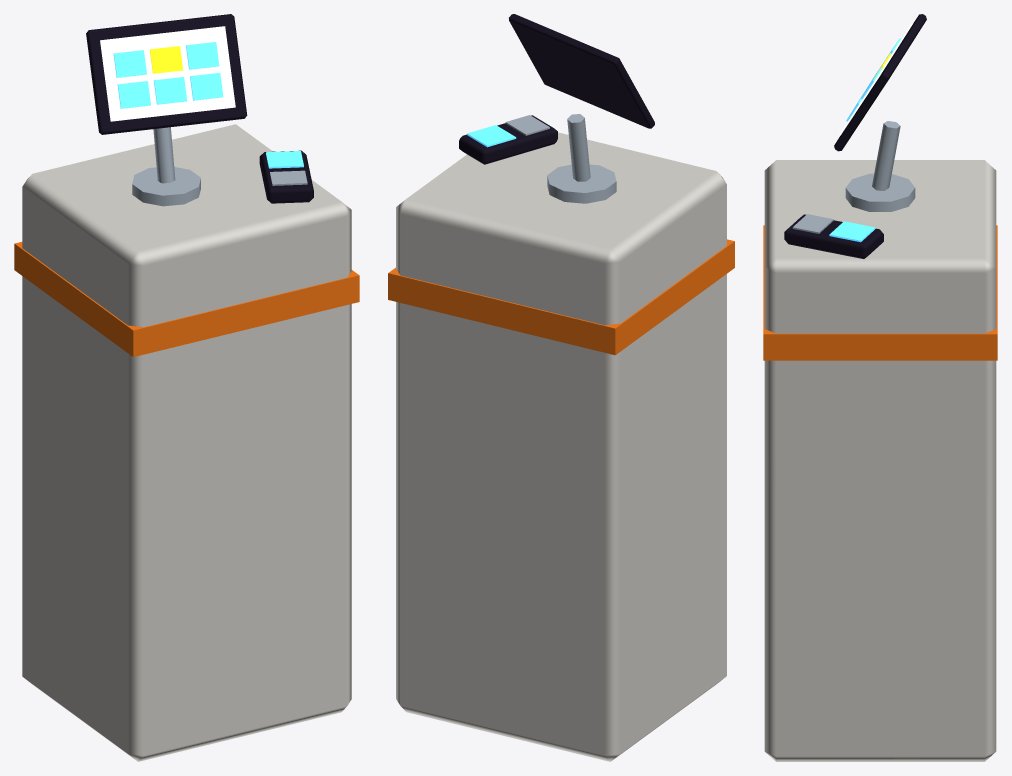
The model's file is station_special_ausstattung_2_2.glb.
3 views of the same model, side by side, from view 1: azimuth 30°, elevation 25°; view 2: azimuth 150°, elevation 25°; view 3: azimuth 270°, elevation 25° (orthographic).
Parts seen in each view (by area): view 1: station_special_ausstattung_2_2; view 2: station_special_ausstattung_2_2; view 3: station_special_ausstattung_2_2.
Boxes of the visible parts, x1=… form: station_special_ausstattung_2_2: x1=14, y1=14, x2=359, y2=761; station_special_ausstattung_2_2: x1=388, y1=14, x2=734, y2=761; station_special_ausstattung_2_2: x1=763, y1=14, x2=997, y2=761.
Bounding box in the file's own units: 0.445 × 1.26 × 0.405.
